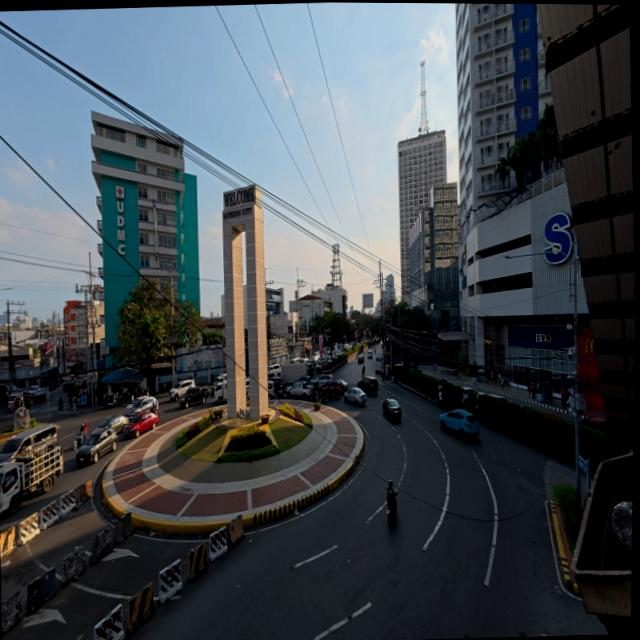car: (77, 426, 121, 465), (441, 407, 483, 441), (316, 376, 348, 400), (342, 384, 367, 405), (380, 399, 400, 424)
